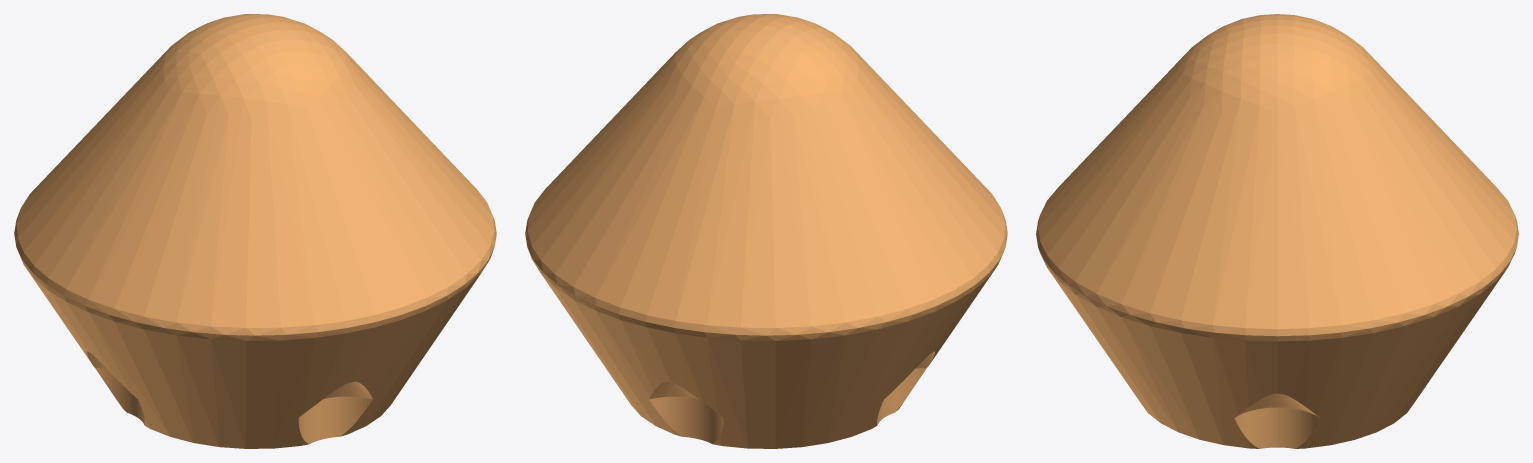
The model's file is spin-capsule.glb.
3 renders of one model, left to right at view 1: azimuth 30°, elevation 25°; view 2: azimuth 150°, elevation 25°; view 3: azimuth 270°, elevation 25°, orthographic.
Parts seen in each view (by area): view 1: spin-capsule; view 2: spin-capsule; view 3: spin-capsule.
Part boxes in pixels (x1=…): spin-capsule: x1=14, y1=14, x2=496, y2=448; spin-capsule: x1=525, y1=14, x2=1007, y2=448; spin-capsule: x1=1036, y1=14, x2=1518, y2=448.
Size of the model in its own units: 0.0656 by 0.0547 by 0.0656.
